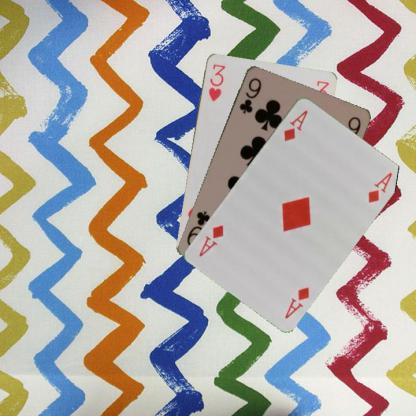3h: (205, 61, 227, 102)
9c: (236, 75, 263, 115)
Ad: (281, 284, 311, 320), (280, 107, 309, 142)
